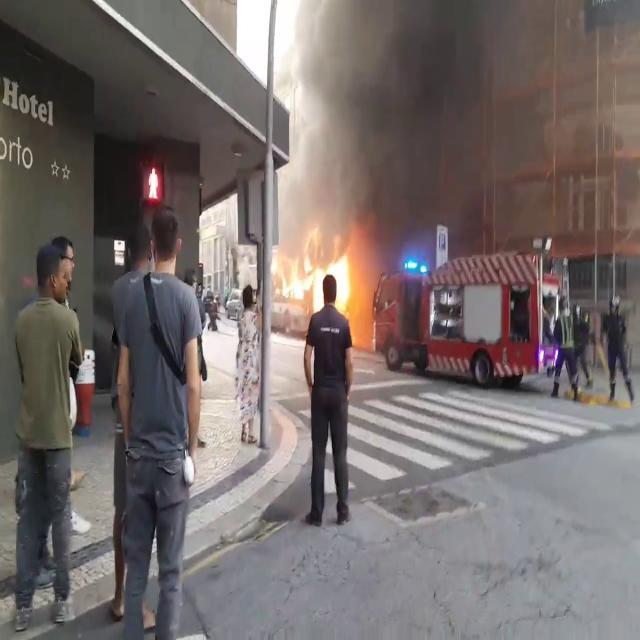Fire: (272, 225, 358, 312)
Smoke: (278, 0, 515, 242)
